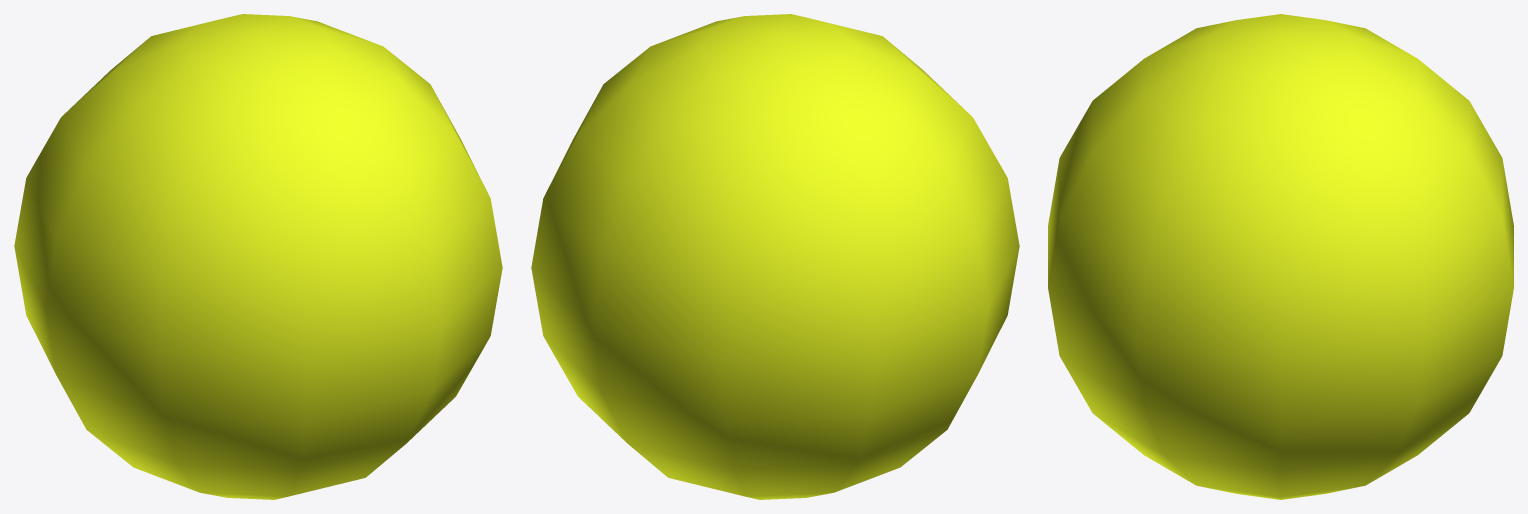
File: smallball.dae
3 renders of one model, left to right at view 1: azimuth 30°, elevation 25°; view 2: azimuth 150°, elevation 25°; view 3: azimuth 270°, elevation 25°, orthographic.
Parts seen in each view (by area): view 1: pSphere1; view 2: pSphere1; view 3: pSphere1.
Boxes of the visible parts, bbox=[...] form: pSphere1: bbox=[14, 14, 502, 499]; pSphere1: bbox=[531, 14, 1019, 499]; pSphere1: bbox=[1048, 14, 1513, 499].
Size of the model in its own units: 2 by 2 by 1.9.
